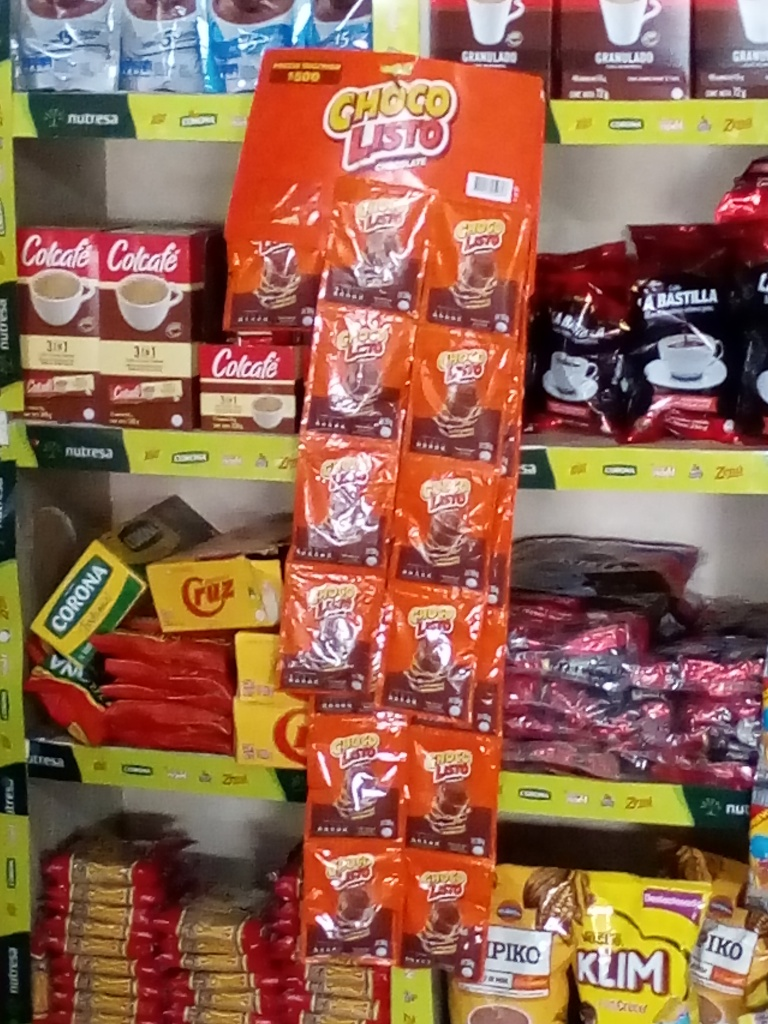COL0170103SOB02000: (324, 166, 420, 314)
